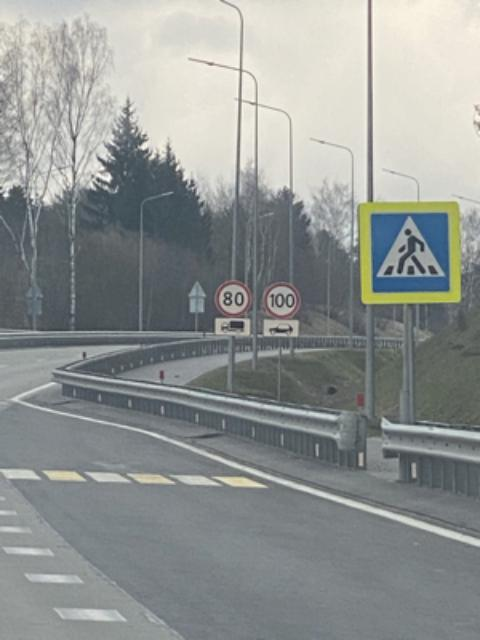crosswalk-sign: (357, 200, 464, 307)
